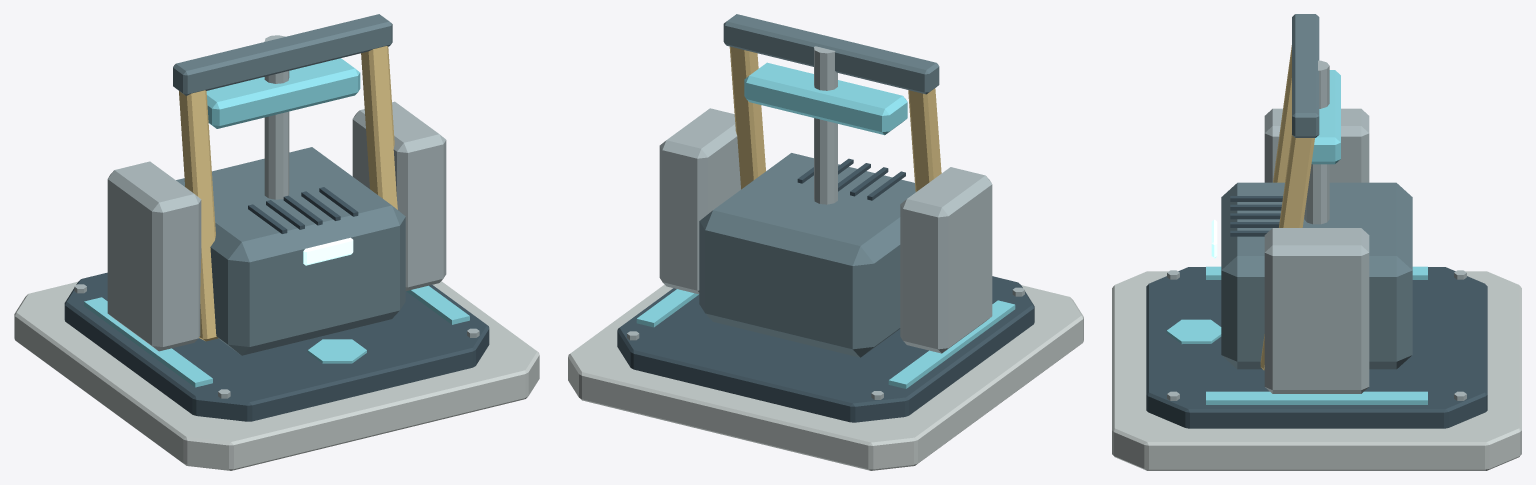
File: extractor.glb
The picture shows the model from 3 angles, left to right: view 1: azimuth 30°, elevation 25°; view 2: azimuth 150°, elevation 25°; view 3: azimuth 270°, elevation 25°; orthographic projection.
Visible parts, largest first — view 1: asset_extractor__FP_Armour, foundation, asset_extractor__FP_Dark, asset_extractor__FP_Steel, asset_extractor__FP_Hazard, crosshead, asset_extractor__FP_Team, shaft, Hexagon, lamp; view 2: asset_extractor__FP_Armour, foundation, asset_extractor__FP_Steel, asset_extractor__FP_Dark, crosshead, asset_extractor__FP_Hazard, shaft, asset_extractor__FP_Team; view 3: asset_extractor__FP_Dark, foundation, asset_extractor__FP_Steel, asset_extractor__FP_Armour, asset_extractor__FP_Hazard, asset_extractor__FP_Team, shaft, crosshead, Hexagon.
Boxes of the visible parts, bbox=[...] form: asset_extractor__FP_Armour: bbox=[173, 14, 405, 355]; foundation: bbox=[14, 281, 539, 470]; asset_extractor__FP_Dark: bbox=[64, 187, 489, 421]; asset_extractor__FP_Steel: bbox=[74, 101, 479, 398]; asset_extractor__FP_Hazard: bbox=[179, 46, 397, 341]; crosshead: bbox=[206, 58, 360, 128]; asset_extractor__FP_Team: bbox=[84, 285, 469, 387]; shaft: bbox=[264, 35, 289, 199]; Hexagon: bbox=[307, 339, 366, 363]; lamp: bbox=[303, 237, 353, 265]; asset_extractor__FP_Armour: bbox=[699, 14, 939, 357]; foundation: bbox=[568, 284, 1083, 470]; asset_extractor__FP_Steel: bbox=[627, 108, 1024, 399]; asset_extractor__FP_Dark: bbox=[617, 158, 1034, 422]; crosshead: bbox=[744, 62, 907, 135]; asset_extractor__FP_Hazard: bbox=[729, 46, 941, 191]; shaft: bbox=[814, 46, 837, 204]; asset_extractor__FP_Team: bbox=[636, 289, 1015, 388]; asset_extractor__FP_Dark: bbox=[1146, 196, 1487, 428]; foundation: bbox=[1112, 271, 1521, 470]; asset_extractor__FP_Steel: bbox=[1167, 108, 1466, 400]; asset_extractor__FP_Armour: bbox=[1221, 14, 1412, 369]; asset_extractor__FP_Hazard: bbox=[1260, 45, 1314, 370]; asset_extractor__FP_Team: bbox=[1206, 266, 1427, 404]; shaft: bbox=[1304, 60, 1329, 224]; crosshead: bbox=[1311, 70, 1340, 164]; Hexagon: bbox=[1166, 319, 1221, 343].
Bounding box in the file's own units: 1.8 × 1.56 × 1.8.
